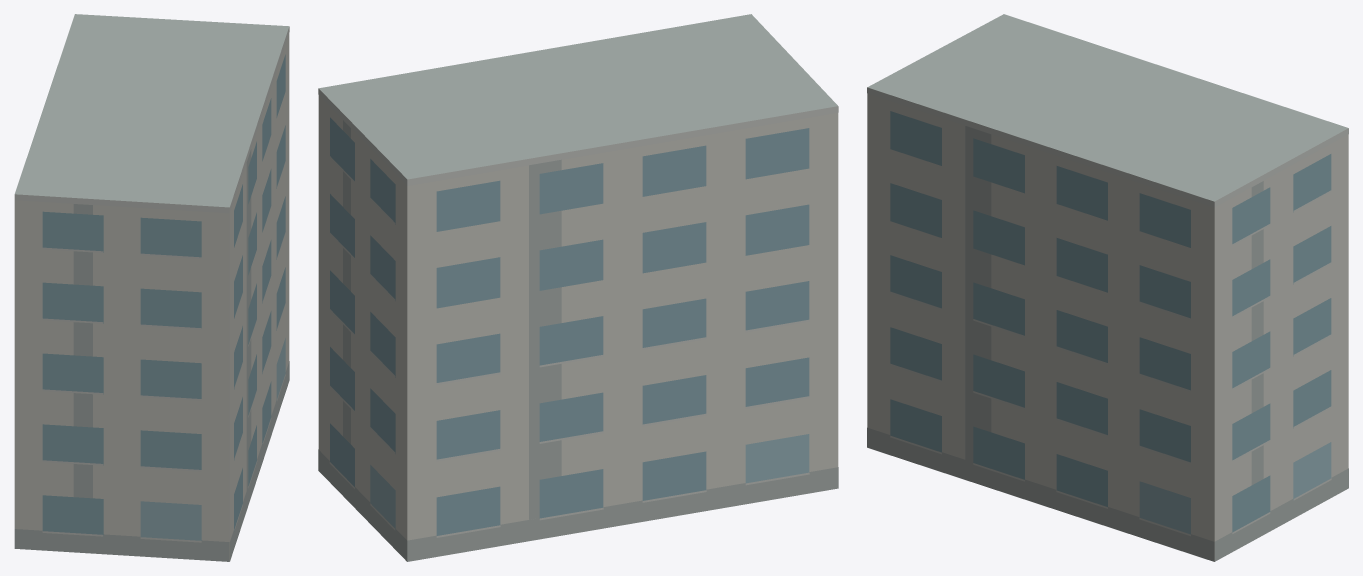
File: survey-upis-33004856.glb
3 views of the same model, side by side, from view 1: azimuth 30°, elevation 25°; view 2: azimuth 150°, elevation 25°; view 3: azimuth 270°, elevation 25° (orthographic). The views are drawn at different scales.
Parts seen in each view (by area): view 1: survey-upis-33004856.tmp; view 2: survey-upis-33004856.tmp; view 3: survey-upis-33004856.tmp.
Boxes of the visible parts, x1,y1,x2,y2 form: survey-upis-33004856.tmp: [14, 14, 289, 561]; survey-upis-33004856.tmp: [318, 14, 838, 561]; survey-upis-33004856.tmp: [867, 14, 1348, 561].
Bounding box in the file's own units: 16.09 × 14.4 × 17.45.
